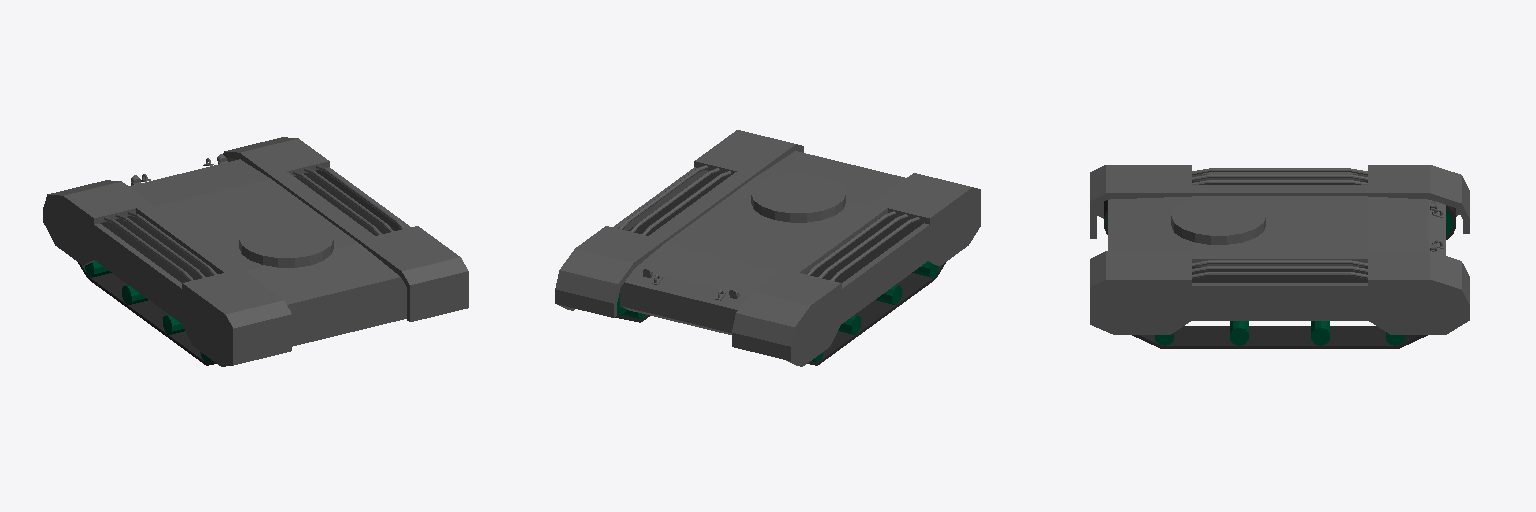
Rendered from tank.obj.
3 renders of one model, left to right at view 1: azimuth 30°, elevation 25°; view 2: azimuth 150°, elevation 25°; view 3: azimuth 270°, elevation 25°, orthographic.
Parts seen in each view (by area): view 1: Box02; view 2: Box02; view 3: Box02.
Part boxes in pixels (left/top/right/bottom): Box02: left=43, top=137, right=468, bottom=366; Box02: left=555, top=130, right=980, bottom=366; Box02: left=1090, top=165, right=1469, bottom=348.
Size of the model in its own units: 157 by 51.18 by 220.